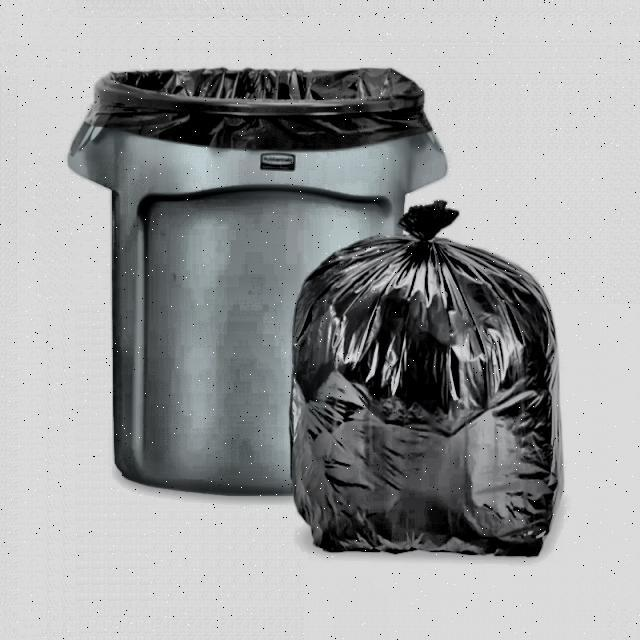Trashbag: (276, 188, 578, 558)
